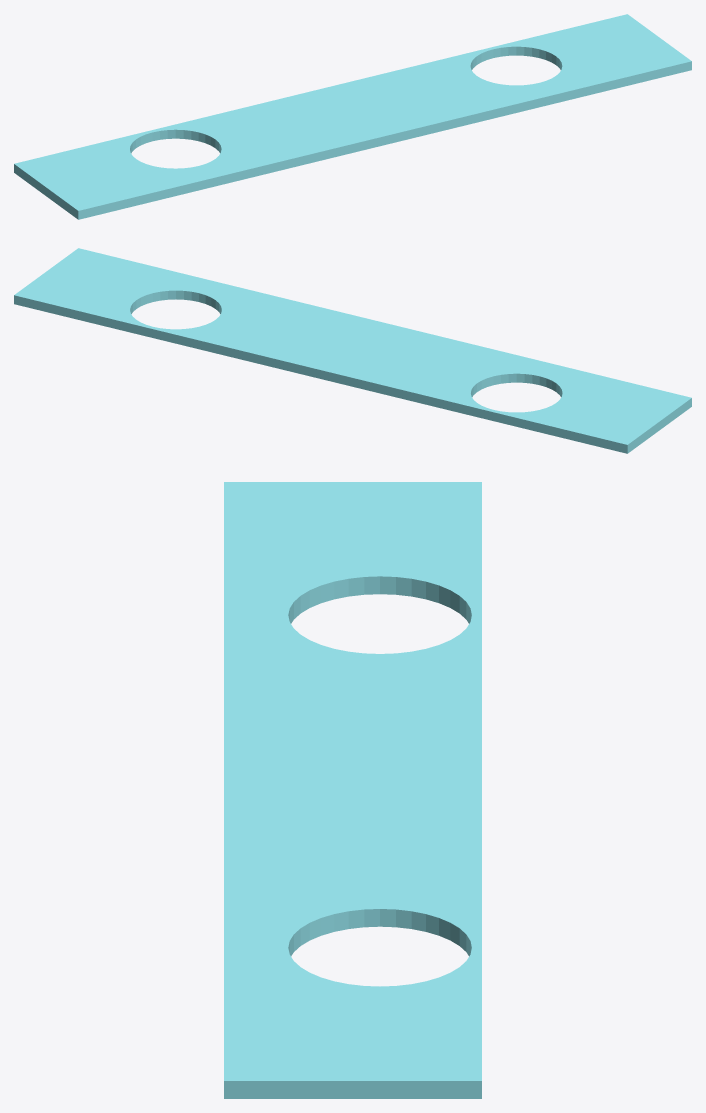
The model's file is package_1.obj.
The picture shows the model from 3 angles, top to bottom: view 1: azimuth 30°, elevation 25°; view 2: azimuth 150°, elevation 25°; view 3: azimuth 270°, elevation 25°; orthographic projection. The views are drawn at different scales.
Bounding box in the file's own units: 2.16 × 0.03 × 0.393.
